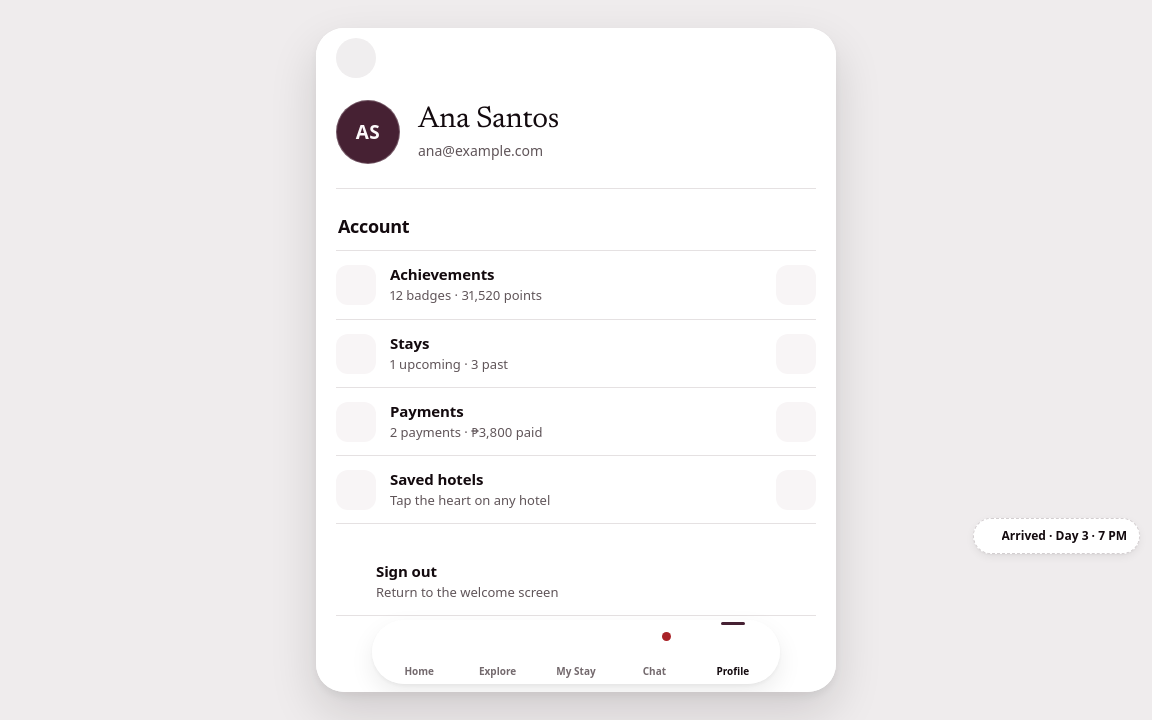
the badge detail page › shows the bookings that earned a badge
Click the button "Achievements 12 badges · 31,520 points": point(356, 285) [336,251,816,319]
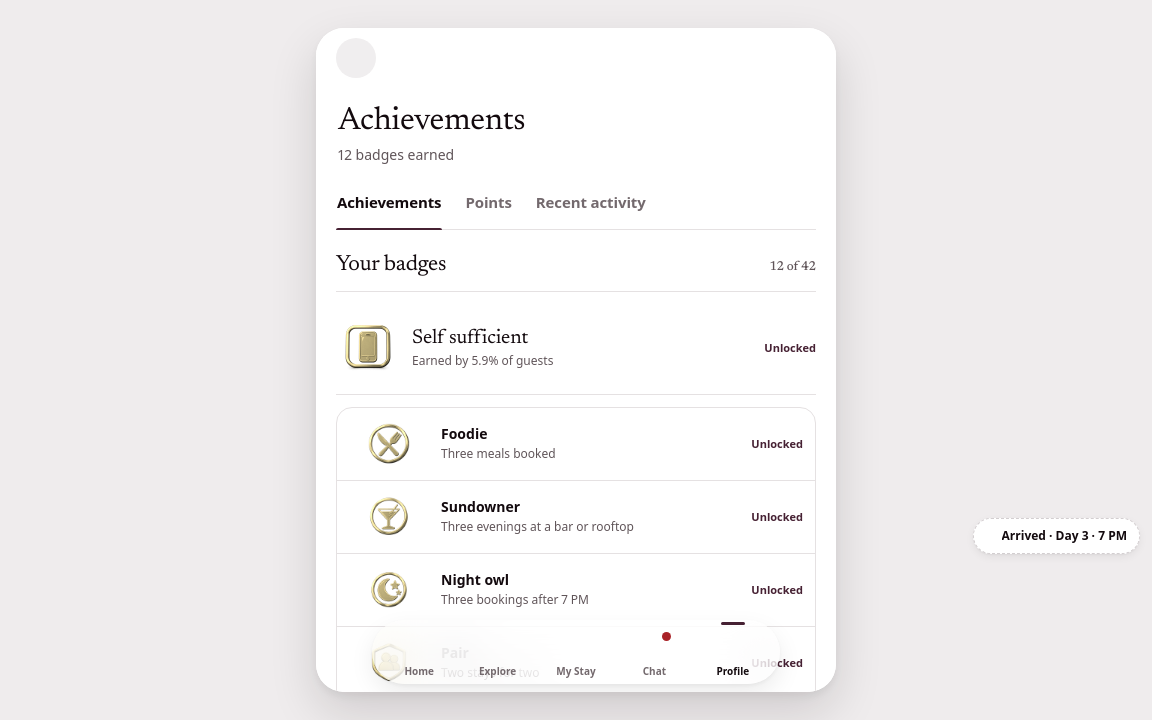
Click the button "Foodie Three meals booked Unlocked": point(389, 444) [337,408,815,480]
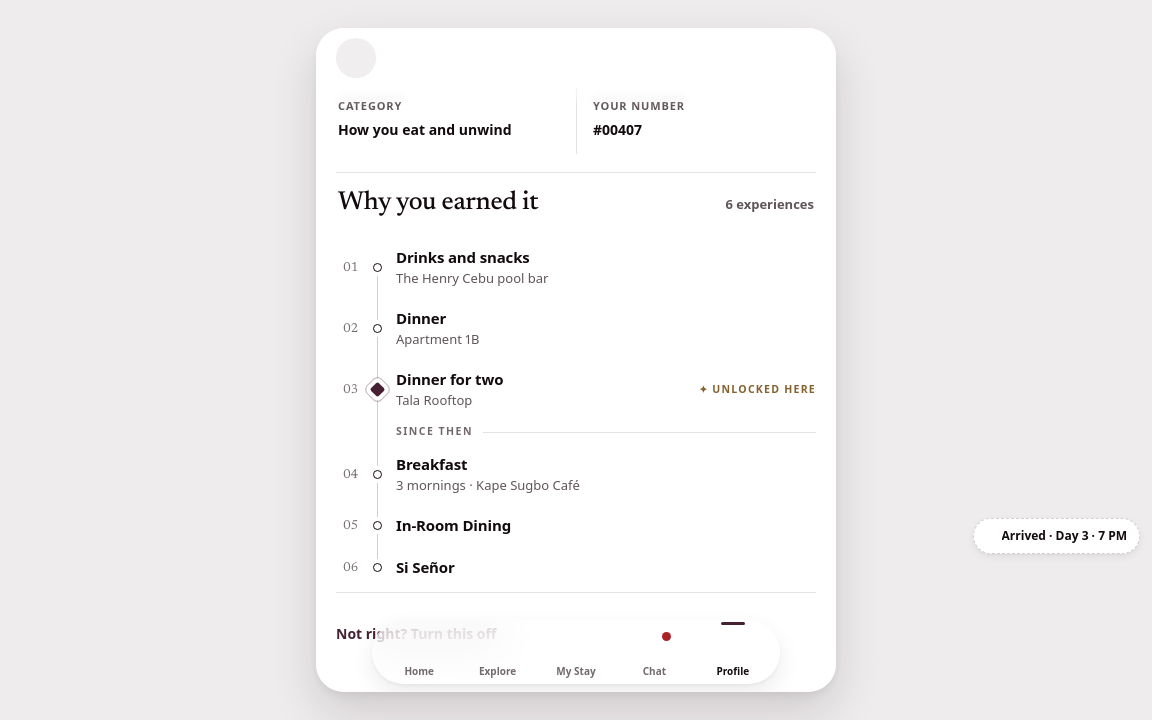
Result: the text "Tala Rooftop" is shown at [396,391,472,409]
Result: the text "The Henry Cebu pool bar" is shown at [396,269,548,287]
Result: the text "Unlocked here" is shown at [699,382,816,398]
